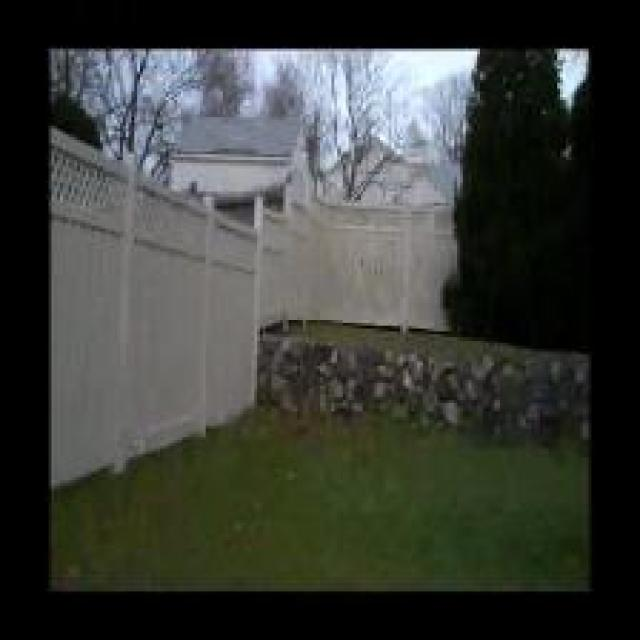other: (390, 65, 465, 160)
